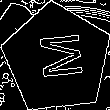M_W: (30, 33, 84, 84)
